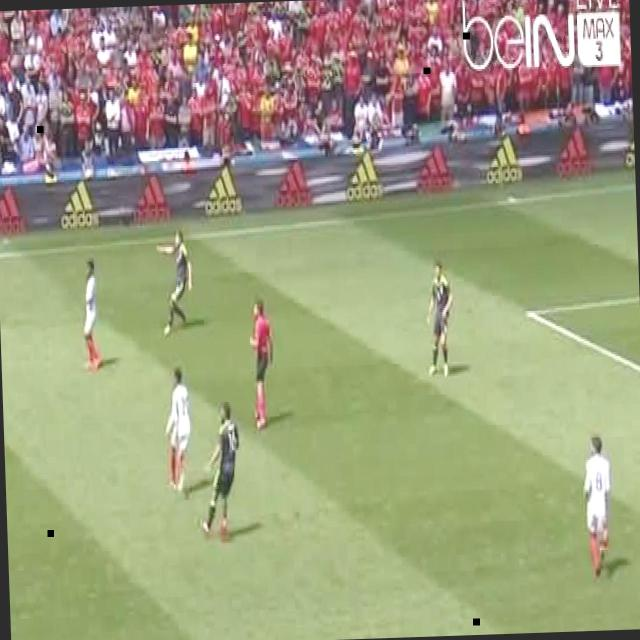player-white: (198, 399, 242, 540), (154, 230, 195, 336), (582, 436, 612, 580), (247, 300, 276, 430), (164, 368, 193, 489), (425, 263, 454, 377), (82, 261, 102, 371)
